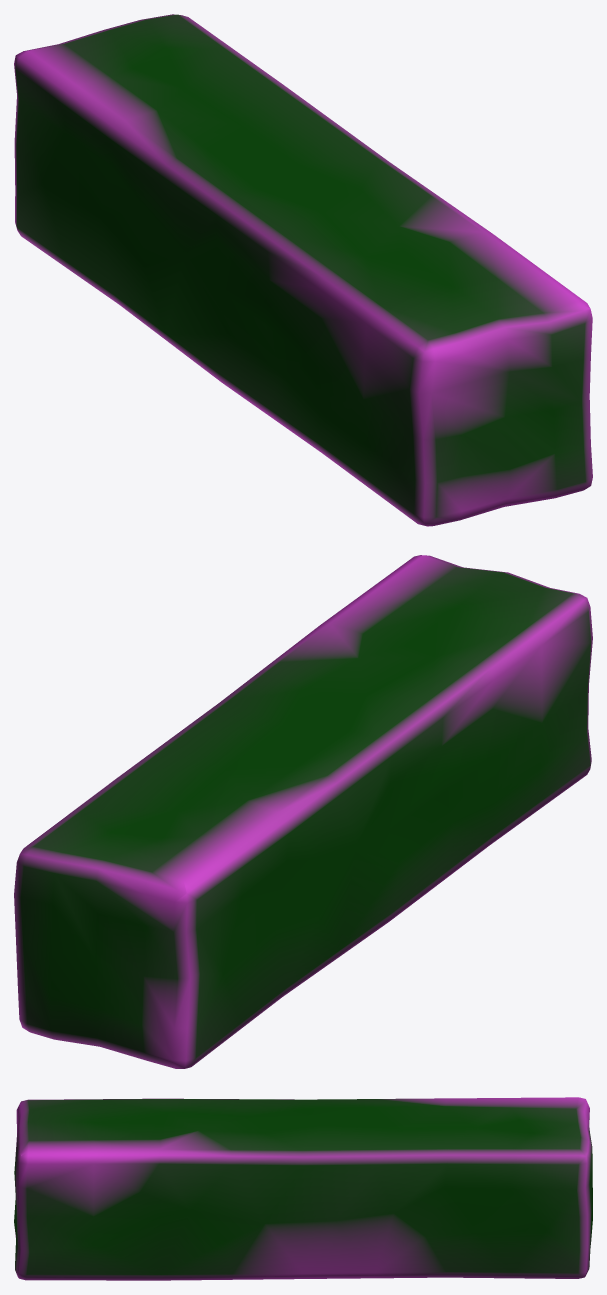
File: frame_100_01.fbx
The picture shows the model from 3 angles, top to bottom: view 1: azimuth 30°, elevation 25°; view 2: azimuth 150°, elevation 25°; view 3: azimuth 270°, elevation 25°; orthographic projection. The views are drawn at different scales.
Visible parts, largest first — view 1: frame_100_01; view 2: frame_100_01; view 3: frame_100_01.
Boxes of the visible parts, x1=… form: frame_100_01: x1=14, y1=14, x2=592, y2=526; frame_100_01: x1=14, y1=555, x2=592, y2=1068; frame_100_01: x1=14, y1=1097, x2=592, y2=1280.
Size of the model in its own units: 0.2575 by 0.2592 by 1.01.
